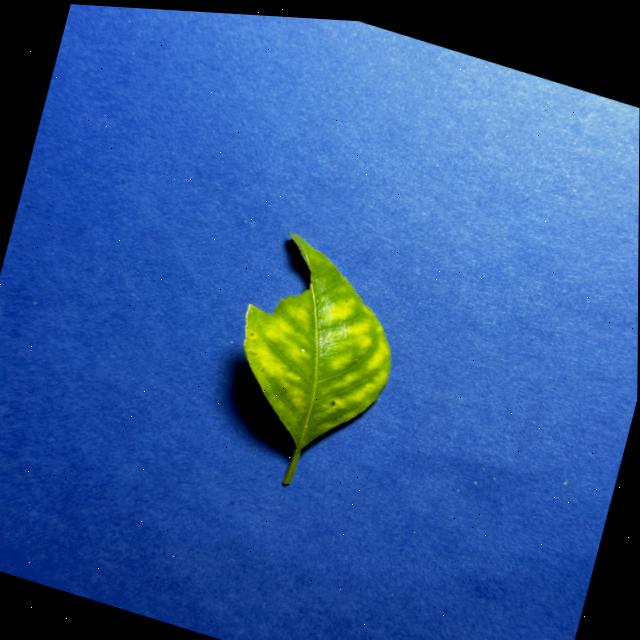greening: (244, 234, 390, 485)
